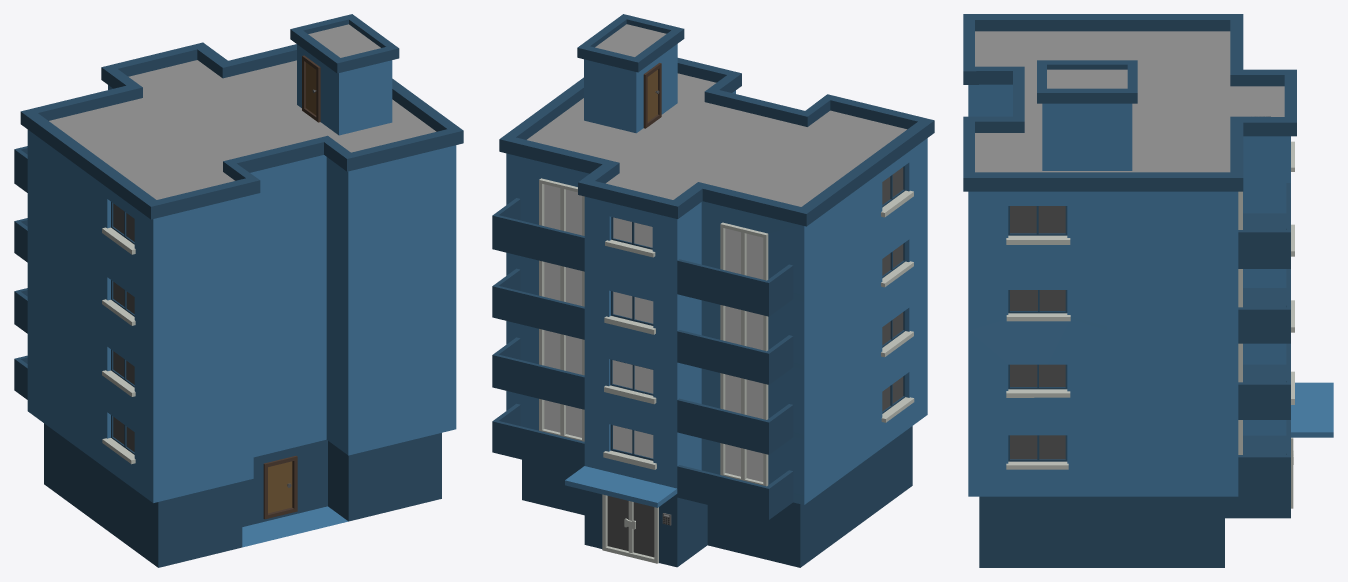
Rendered from Building A Blue.fbx.
The picture shows the model from 3 angles, left to right: view 1: azimuth 30°, elevation 25°; view 2: azimuth 150°, elevation 25°; view 3: azimuth 270°, elevation 25°; orthographic projection. The views are drawn at different scales.
Visible parts, largest first — view 1: Building A Blue.001; view 2: Building A Blue.001; view 3: Building A Blue.001.
Part boxes in pixels (box(x1,y1,x2,y2)): Building A Blue.001: box(14, 14, 463, 567); Building A Blue.001: box(492, 14, 934, 567); Building A Blue.001: box(963, 14, 1333, 567).
Size of the model in its own units: 1534 by 1466 by 2039.
